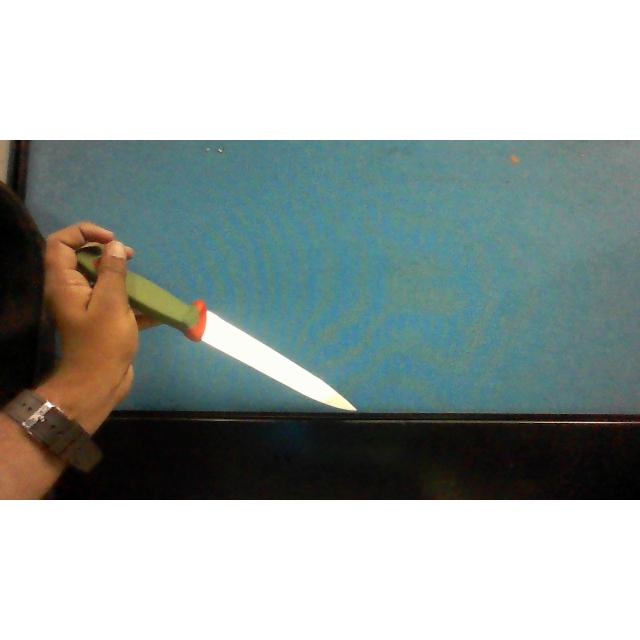Knife: (125, 264, 354, 412)
Knife_Handle: (49, 209, 373, 430)
